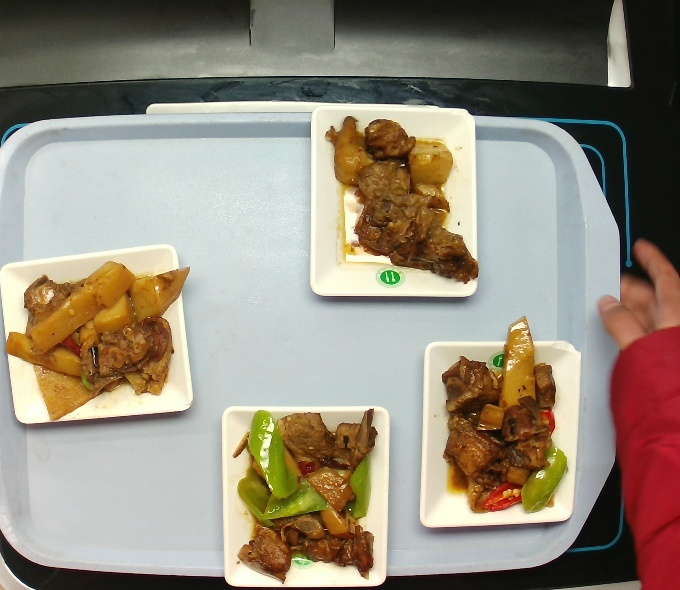wcq-YaRouSunKuai: (9, 259, 185, 418), (228, 405, 385, 581), (327, 109, 484, 283), (432, 325, 560, 510)
